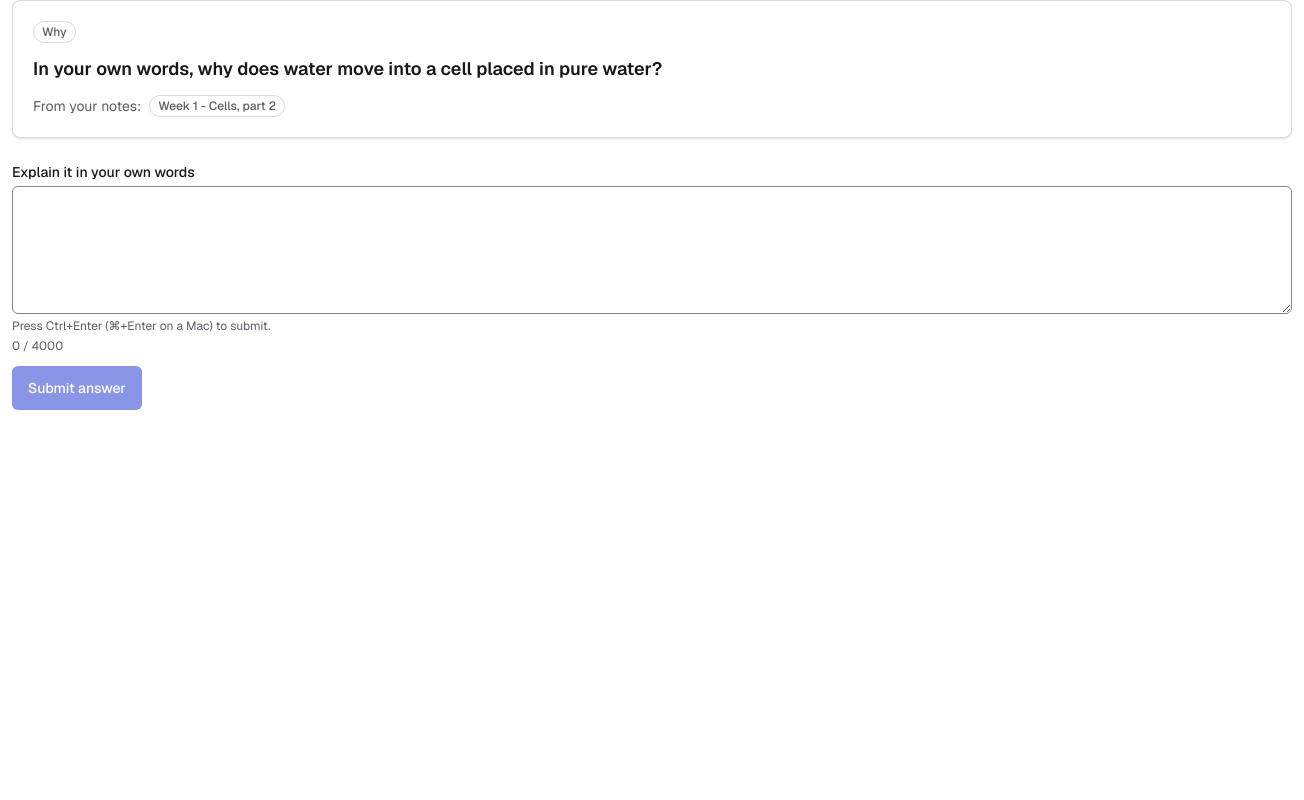
Test case: PracticeSession › error states › shows a 502 AI_UNAVAILABLE on answer and keeps the answer
Type "Water moves toward more solute." into the text box labelled "Explain it in your own words".
click(652, 250); type("Water moves toward more solute.")  # box [12,186,1292,314]
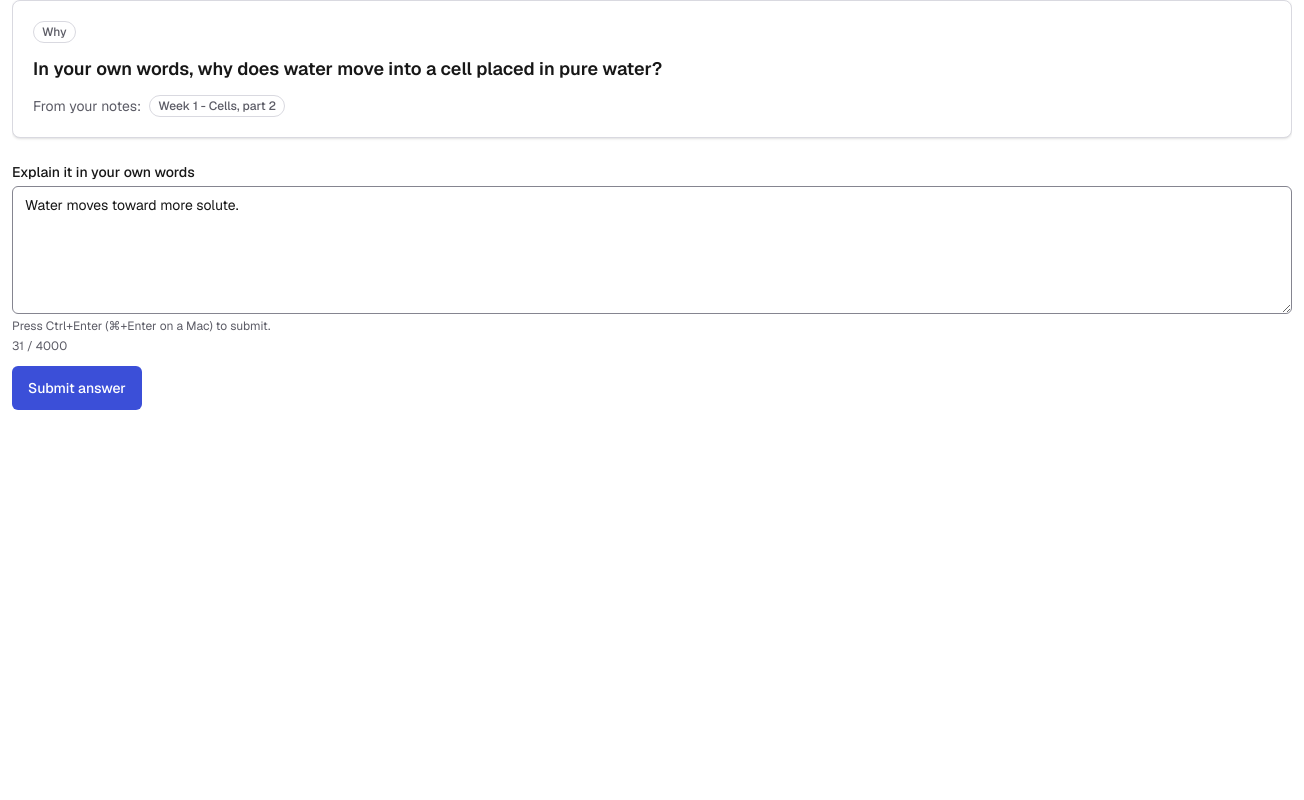
Click the button "Submit answer".
click(77, 388)  # box [12,366,142,410]
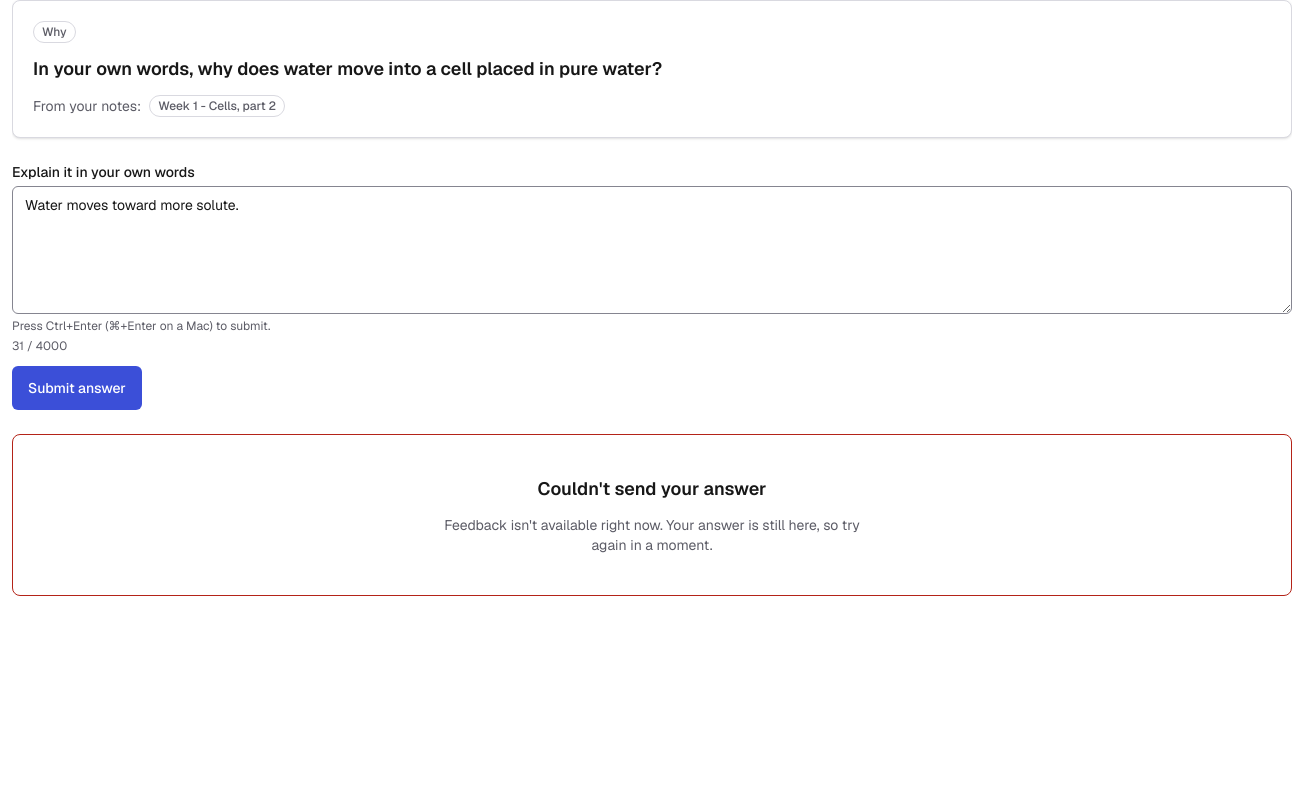
Expected: the button "Submit answer" is enabled, [12,366,142,410]
Expected: the message shows "Couldn't send your answer", [538,477,766,500]
Expected: the message shows "Feedback isn't available right now. Your answer is still here, so try again in a moment.", [444,516,860,554]
